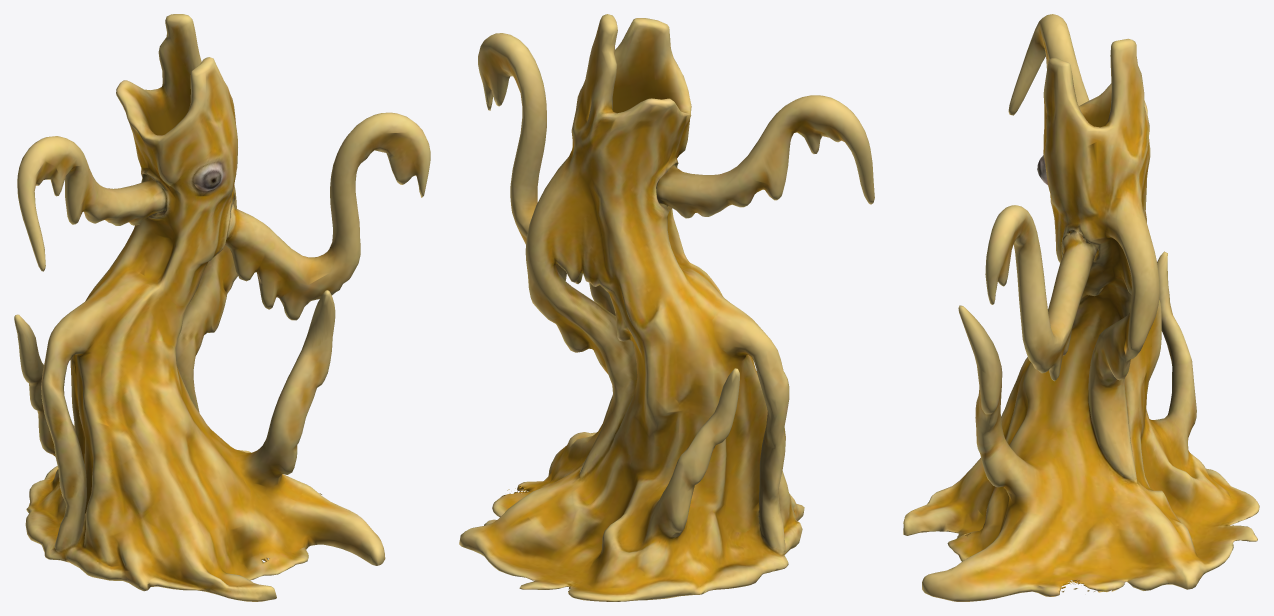
File: MZ4250 - Yochlol.glb
The picture shows the model from 3 angles, left to right: view 1: azimuth 30°, elevation 25°; view 2: azimuth 150°, elevation 25°; view 3: azimuth 270°, elevation 25°; orthographic projection. The views are drawn at different scales.
Visible parts, largest first — view 1: gpyochlol01; view 2: gpyochlol01; view 3: gpyochlol01.
Boxes of the visible parts, left/top/right/bottom form: gpyochlol01: left=14, top=14, right=430, bottom=601; gpyochlol01: left=459, top=14, right=874, bottom=601; gpyochlol01: left=903, top=14, right=1259, bottom=601.
Bounding box in the file's own units: 0.8666 × 1.08 × 0.6882.
1 material, 1 textured.
